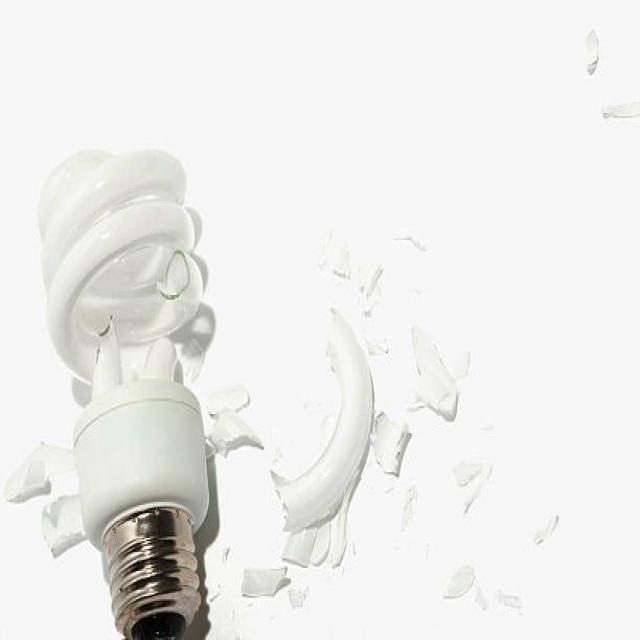electronic: (4, 144, 264, 637), (70, 328, 211, 637), (36, 144, 211, 389), (268, 304, 374, 570), (584, 27, 600, 75)
